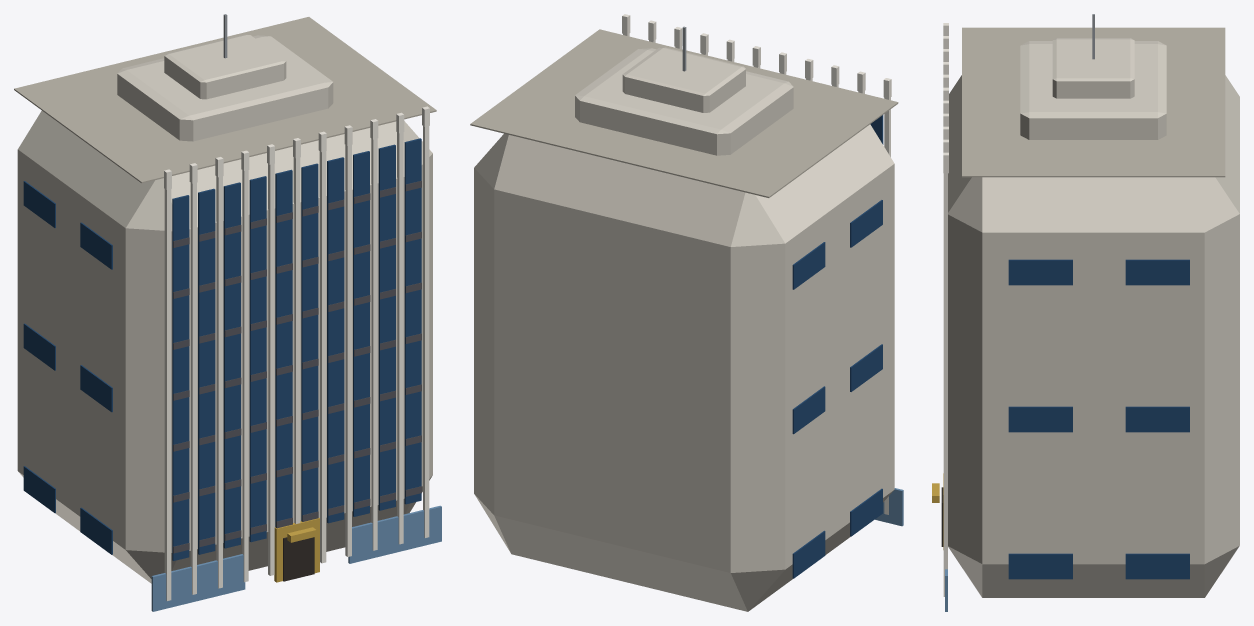
File: office_f8_grid_w24.glb
3 renders of one model, left to right at view 1: azimuth 30°, elevation 25°; view 2: azimuth 150°, elevation 25°; view 3: azimuth 270°, elevation 25°, orthographic. The views are drawn at different scales.
Visible parts, largest first — view 1: walls, roofslab, crown1, chan.003, chan.008, chan.009, chan.002, chan.006, chan.001, chan, chan.005, chan.004 (+23 smaller); view 2: walls, roofslab, crown1, crown2, sb.002, sb.010, sb.006, sb, sb.004, sb.008, gf1; view 3: walls, roofslab, crown1, crown2, pier.010, sb.001, sb.003, sb.005, sb.007, sb.009, sb.011.
Boxes of the visible parts, x1=… form: walls: x1=17, y1=110, x2=432, y2=583; roofslab: x1=14, y1=17, x2=436, y2=183; crown1: x1=117, y1=35, x2=333, y2=141; chan.003: x1=249, y1=176, x2=266, y2=542; chan.008: x1=378, y1=144, x2=395, y2=510; chan.009: x1=404, y1=138, x2=421, y2=504; chan.002: x1=223, y1=182, x2=240, y2=548; chan.006: x1=327, y1=157, x2=344, y2=523; chan.001: x1=198, y1=188, x2=215, y2=554; chan: x1=172, y1=195, x2=189, y2=560; chan.005: x1=301, y1=163, x2=318, y2=521; chan.004: x1=275, y1=169, x2=292, y2=527; walls: x1=474, y1=124, x2=894, y2=611; roofslab: x1=470, y1=29, x2=898, y2=197; crown1: x1=575, y1=48, x2=793, y2=155; crown2: x1=622, y1=47, x2=745, y2=112; sb.002: x1=792, y1=530, x2=825, y2=578; sb.010: x1=792, y1=242, x2=825, y2=289; sb.006: x1=792, y1=386, x2=825, y2=434; sb: x1=850, y1=488, x2=882, y2=536; sb.004: x1=850, y1=344, x2=882, y2=391; sb.008: x1=850, y1=200, x2=882, y2=247; gf1: x1=875, y1=488, x2=903, y2=526; walls: x1=948, y1=75, x2=1239, y2=597; roofslab: x1=962, y1=27, x2=1225, y2=177; crown1: x1=1020, y1=41, x2=1166, y2=139; crown2: x1=1052, y1=38, x2=1134, y2=98; pier.010: x1=943, y1=173, x2=947, y2=596; sb.001: x1=1008, y1=553, x2=1072, y2=579; sb.003: x1=1125, y1=553, x2=1189, y2=579; sb.005: x1=1008, y1=406, x2=1072, y2=432; sb.007: x1=1125, y1=406, x2=1189, y2=432; sb.009: x1=1008, y1=259, x2=1072, y2=285; sb.011: x1=1125, y1=259, x2=1189, y2=285.
Size of the model in its own units: 24.2 by 38 by 20.2.
